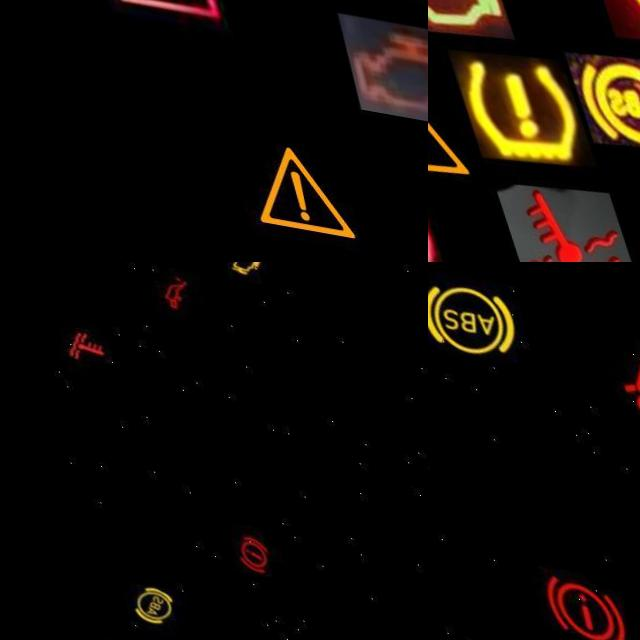Central Warning lamp: (207, 114, 348, 249), (428, 48, 464, 194)
Engine cooling system: (467, 162, 617, 262)
